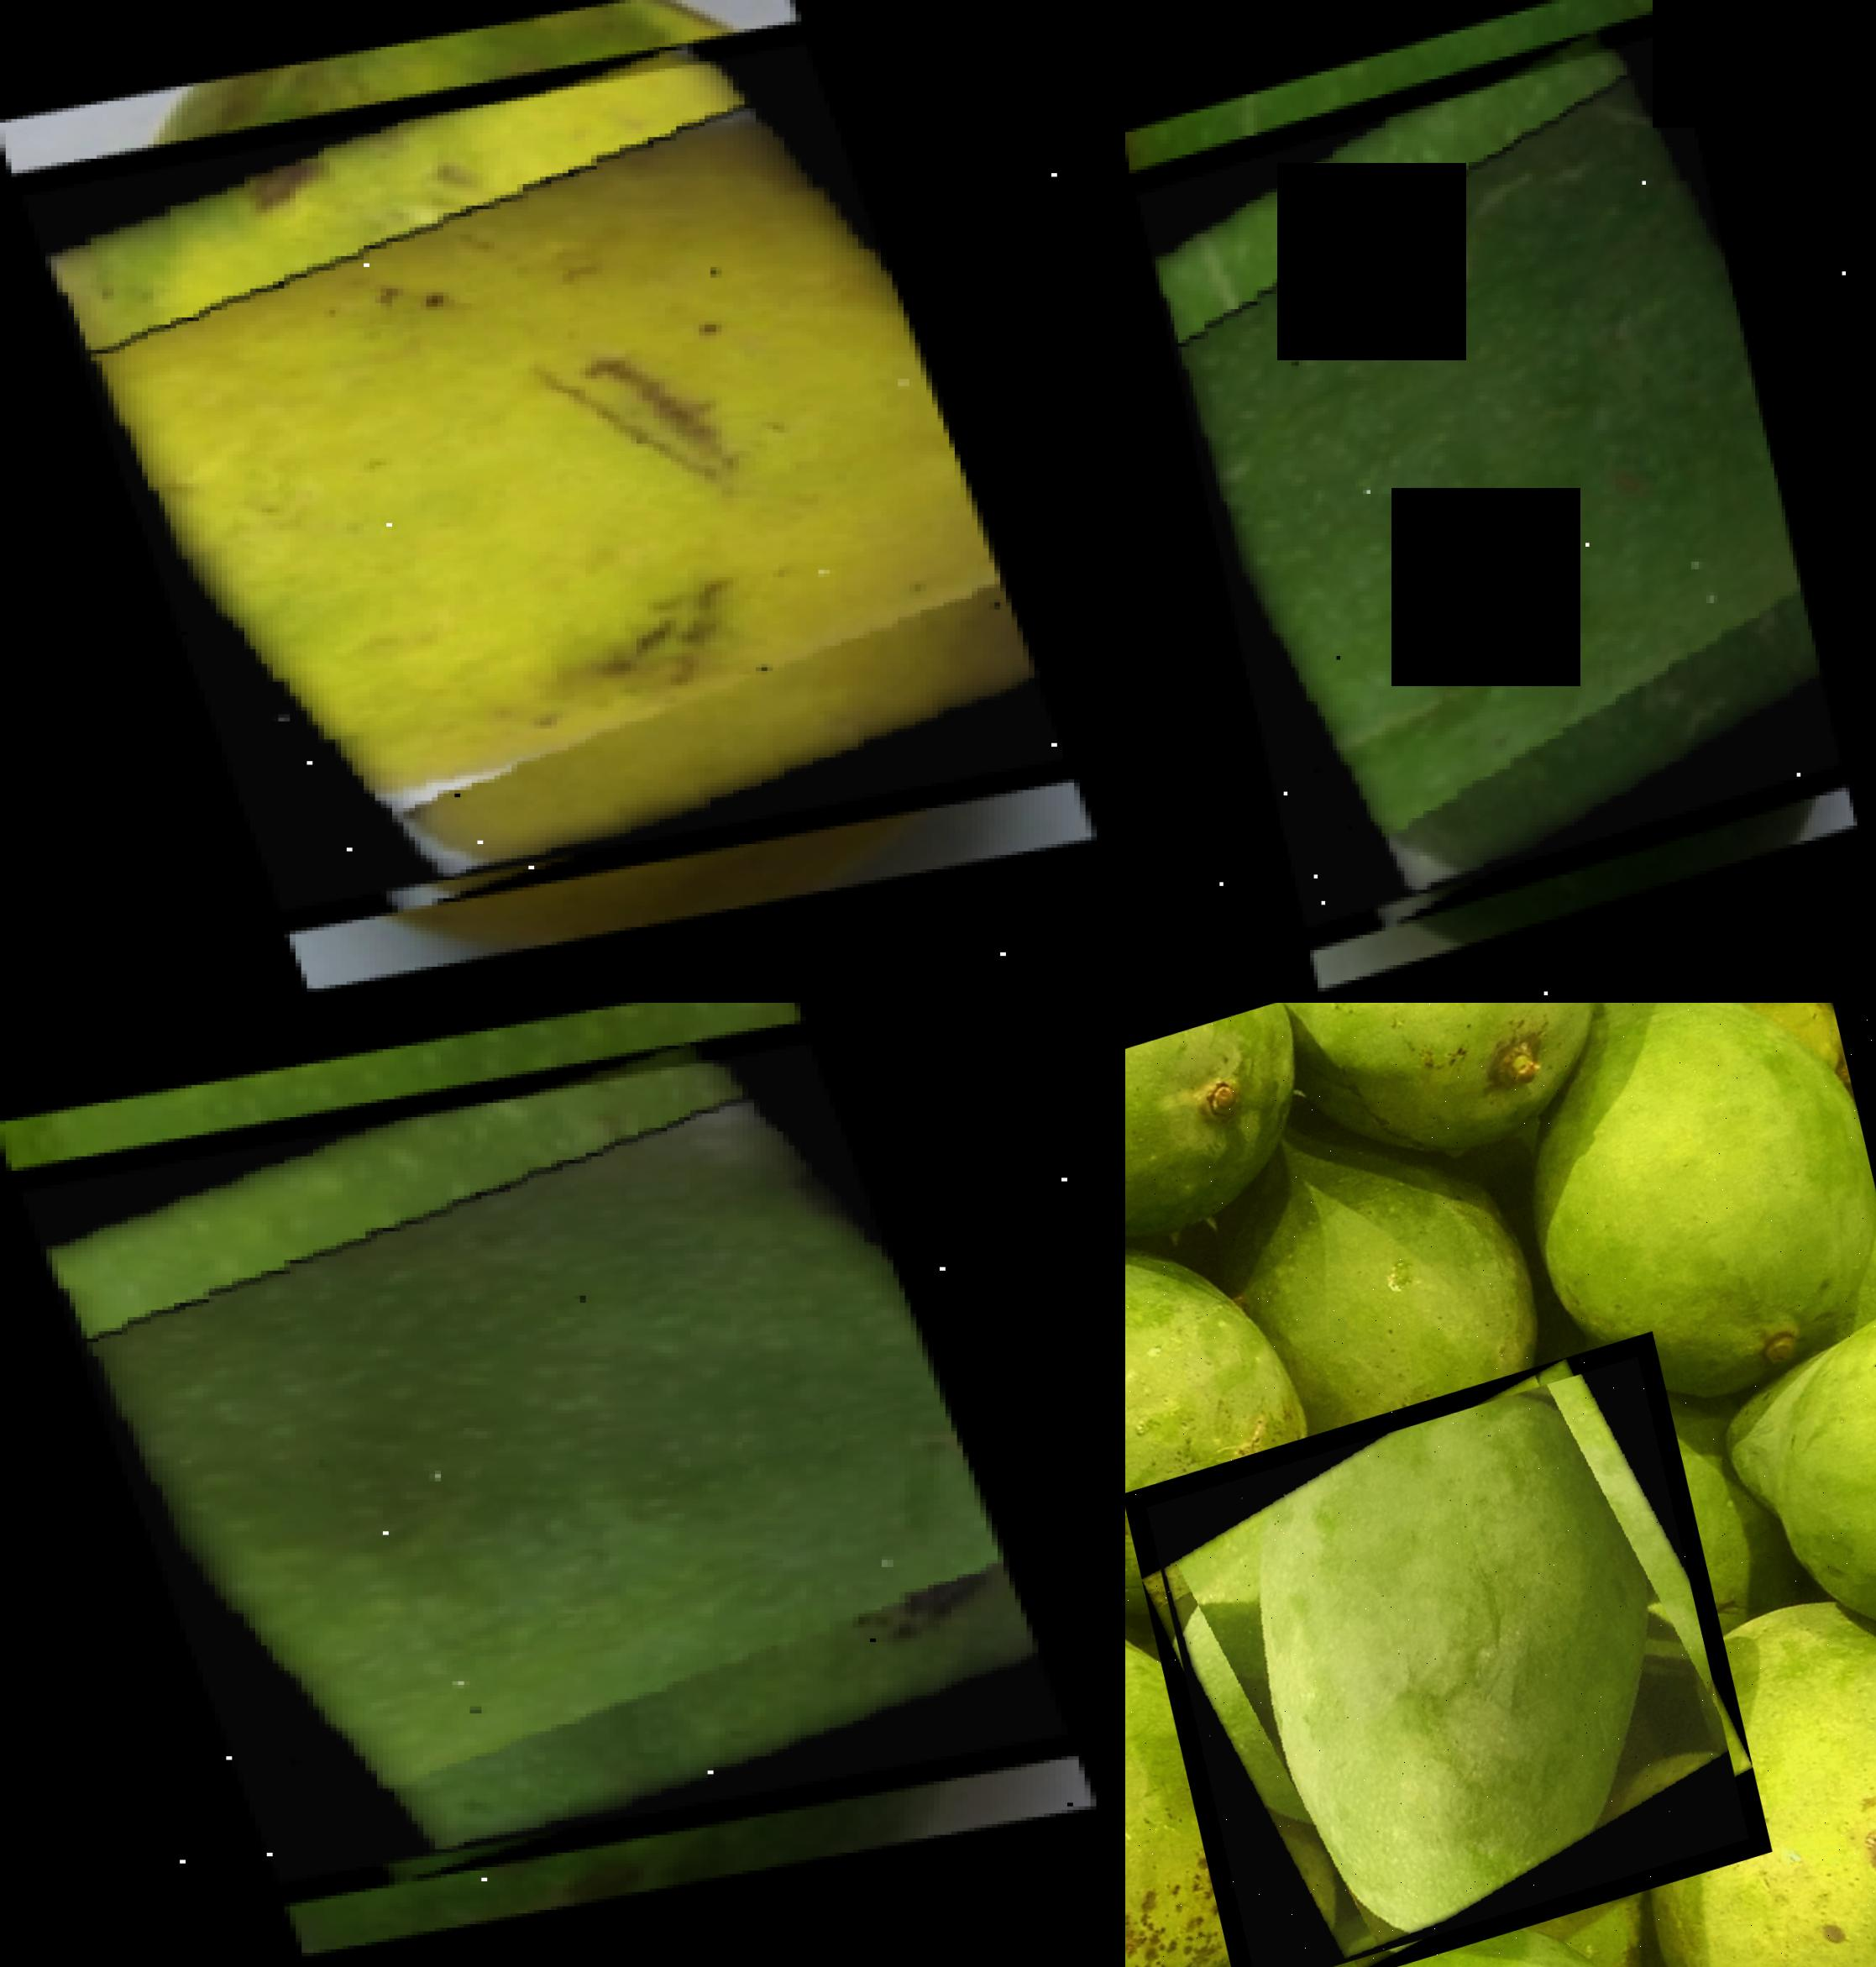Ripe: (0, 32, 1094, 922), (1135, 1349, 1760, 1967)
Unripe: (0, 1031, 1096, 1895), (1126, 19, 1858, 940)
